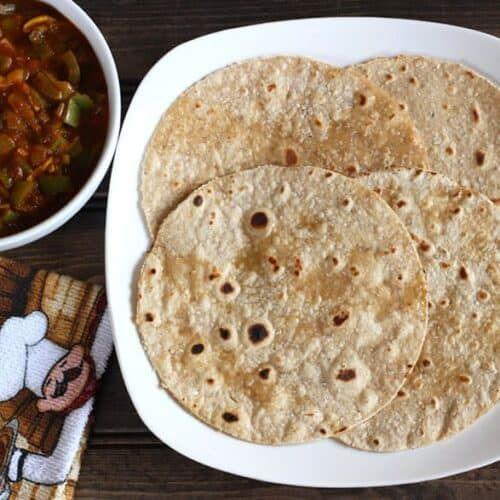roti phulka: (132, 50, 500, 455)
